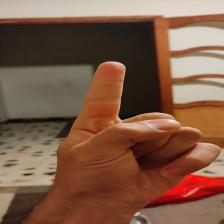one: (68, 58, 220, 202)
